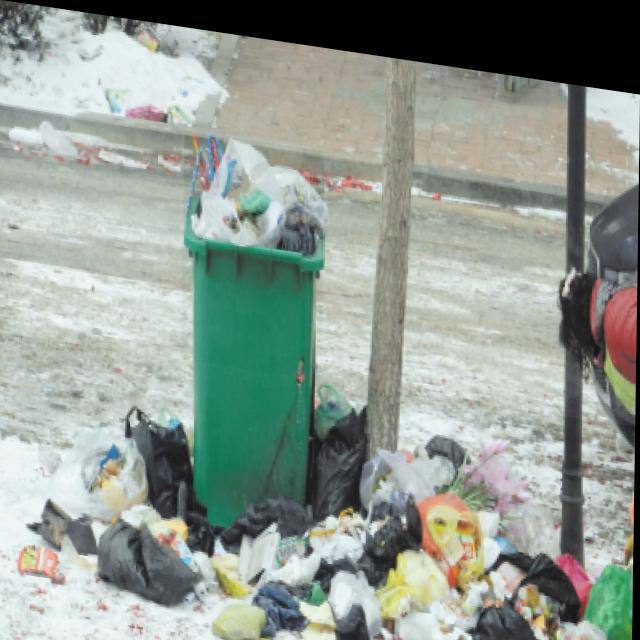garbage: (19, 335, 634, 640)
overflow: (180, 125, 325, 528)
